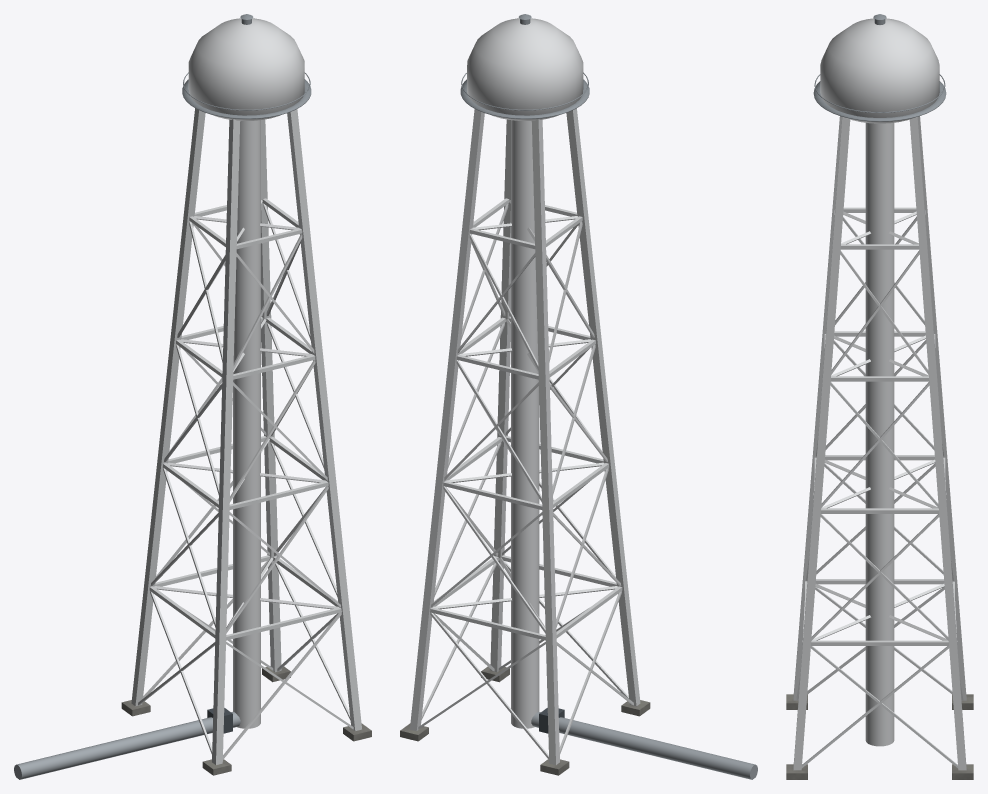
The model's file is water_tower.glb.
3 renders of one model, left to right at view 1: azimuth 30°, elevation 25°; view 2: azimuth 150°, elevation 25°; view 3: azimuth 270°, elevation 25°, orthographic. The views are drawn at different scales.
Parts seen in each view (by area): view 1: water_tower; view 2: water_tower; view 3: water_tower.
Boxes of the visible parts, x1,y1,x2,y2 form: water_tower: (14,14,371,779); water_tower: (400,14,757,779); water_tower: (786,14,973,779).
Size of the model in its own units: 40.39 by 88.8 by 20.78.
Materials: 5 (1 with a texture image).
